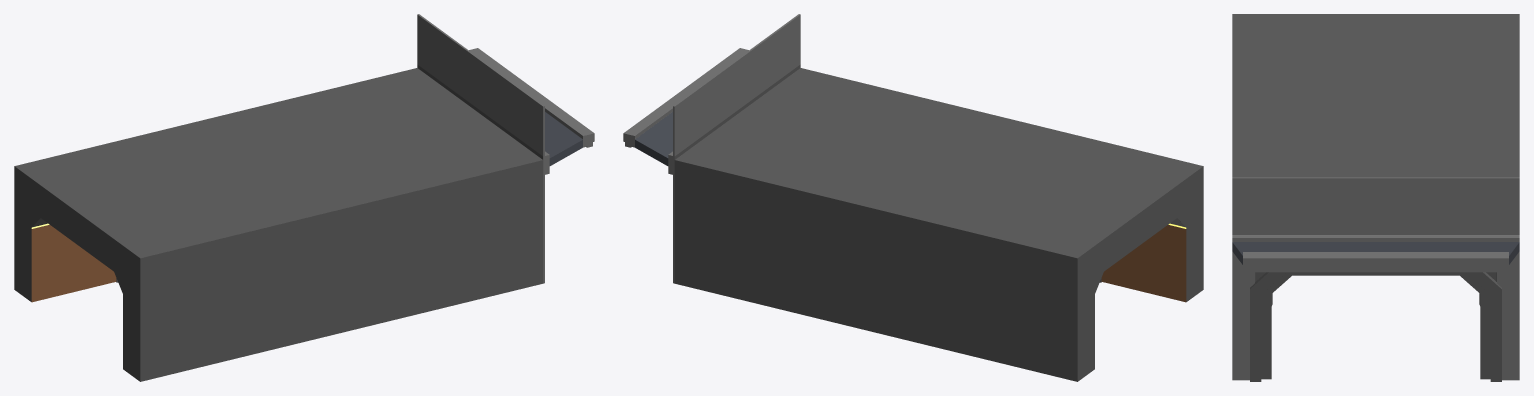
The model's file is SM_LongTunnelEmpty.fbx.
3 renders of one model, left to right at view 1: azimuth 30°, elevation 25°; view 2: azimuth 150°, elevation 25°; view 3: azimuth 270°, elevation 25°, orthographic. The views are drawn at different scales.
Parts seen in each view (by area): view 1: Cube.030; view 2: Cube.030; view 3: Cube.030.
Boxes of the visible parts, left/top/right/bottom form: Cube.030: left=14, top=14, right=594, bottom=381; Cube.030: left=623, top=14, right=1203, bottom=381; Cube.030: left=1232, top=14, right=1519, bottom=381.
Size of the model in its own units: 2121 by 785 by 1008.
